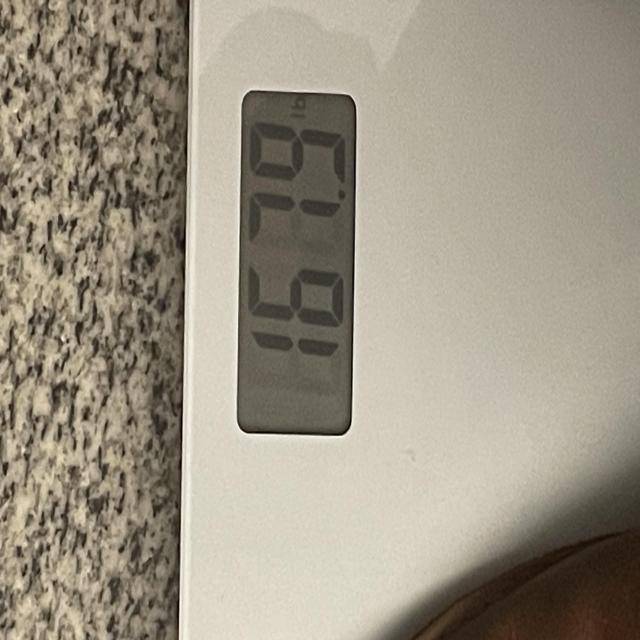ws: (235, 90, 358, 438)
